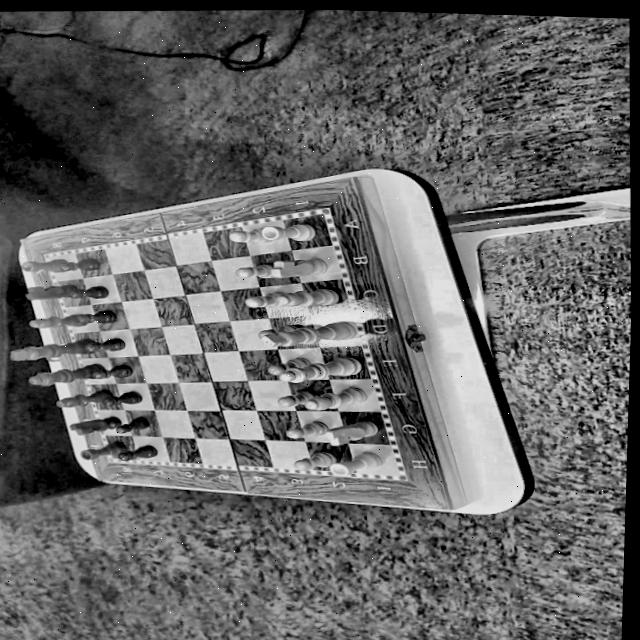chessboard: (48, 214, 397, 475)
